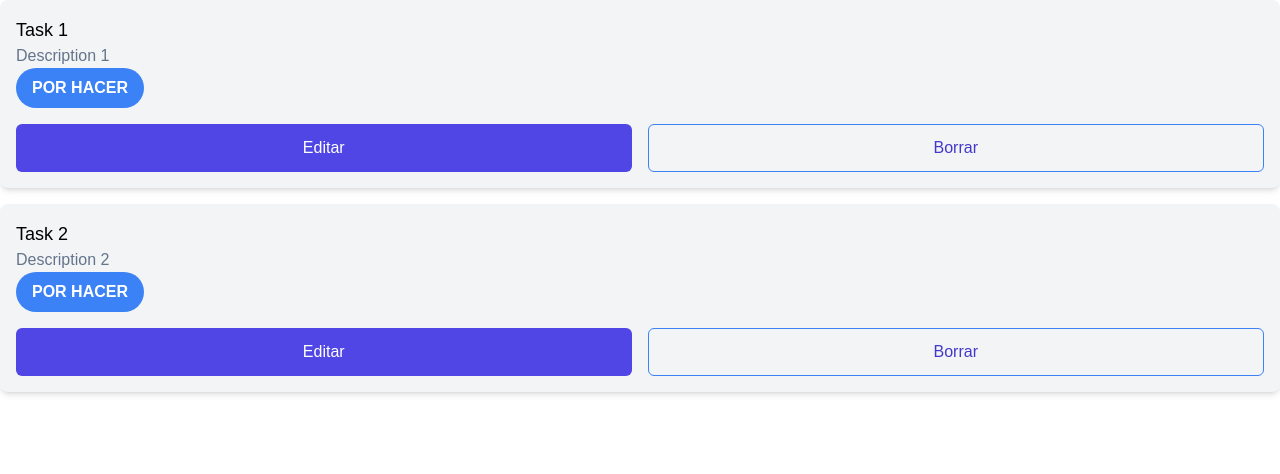
Scenario: TaskList › should update to edit mode view when the edit button is clicked
Click the button "Editar" below "Description 1". click: (324, 148)
box: [16, 124, 632, 172]
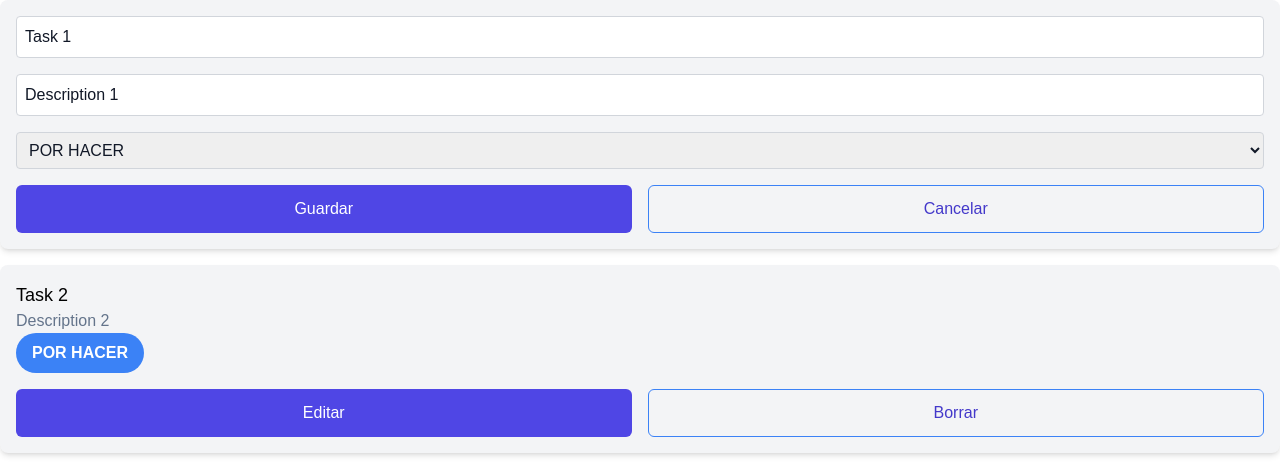
Check: the field with test id "title1" is shown, box [16, 16, 1264, 58]
Check: the field with test id "description1" is shown, box [16, 74, 1264, 116]
Check: the dropdown with test id "select-input" is shown, box [16, 132, 1264, 169]
